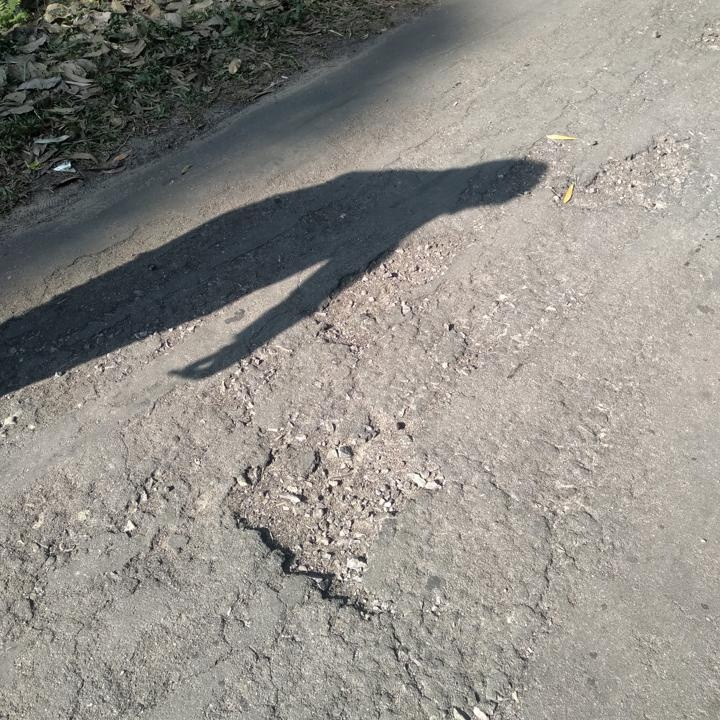pothole: (221, 422, 443, 618), (309, 230, 473, 350), (581, 135, 696, 211)
